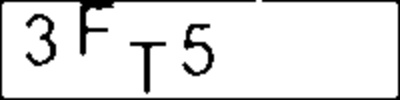3: (20, 10, 62, 73)
5: (179, 19, 221, 78)
F: (77, 1, 122, 60)
T: (127, 39, 174, 95)
